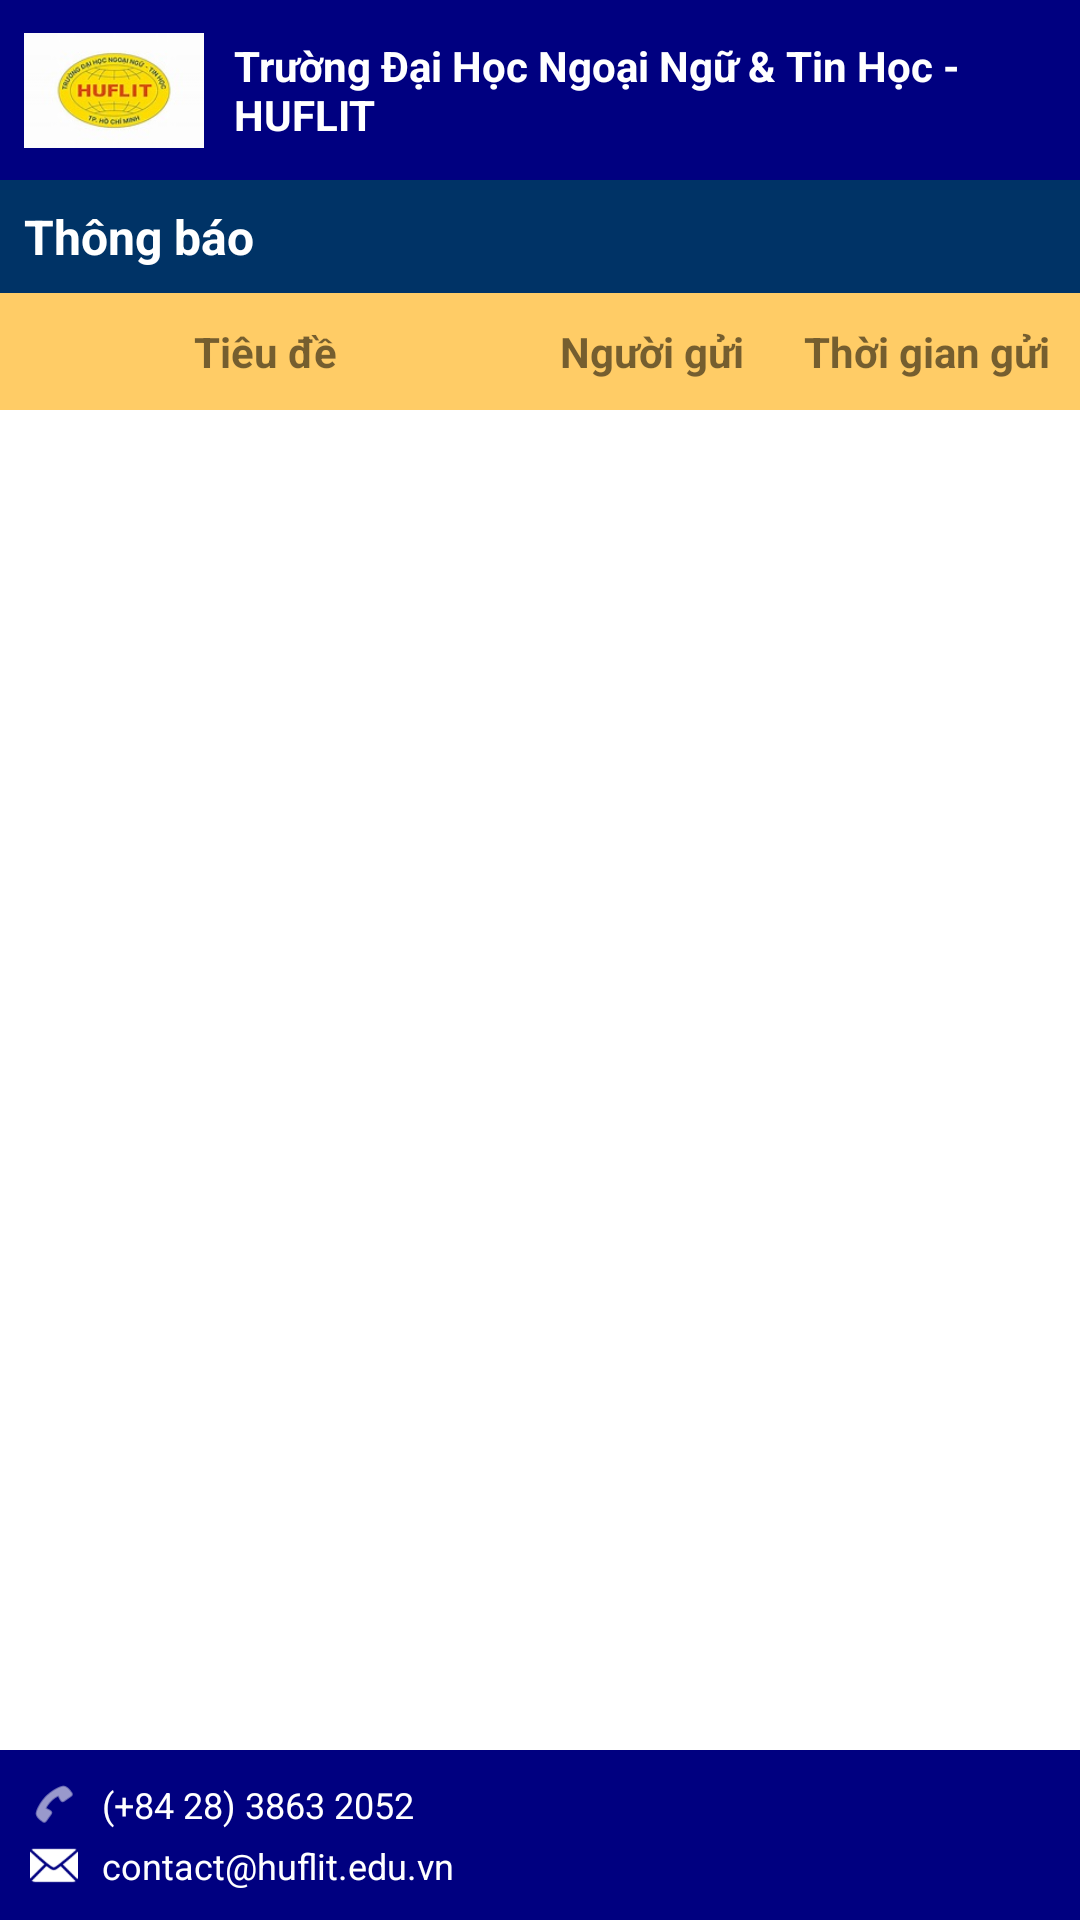

Icon bounding boxes for this 1080*1920 phone screenshot, format Rect(x1, y1, x2, y2):
call: Rect(35, 1785, 73, 1823)
email: Rect(30, 1848, 78, 1883)
